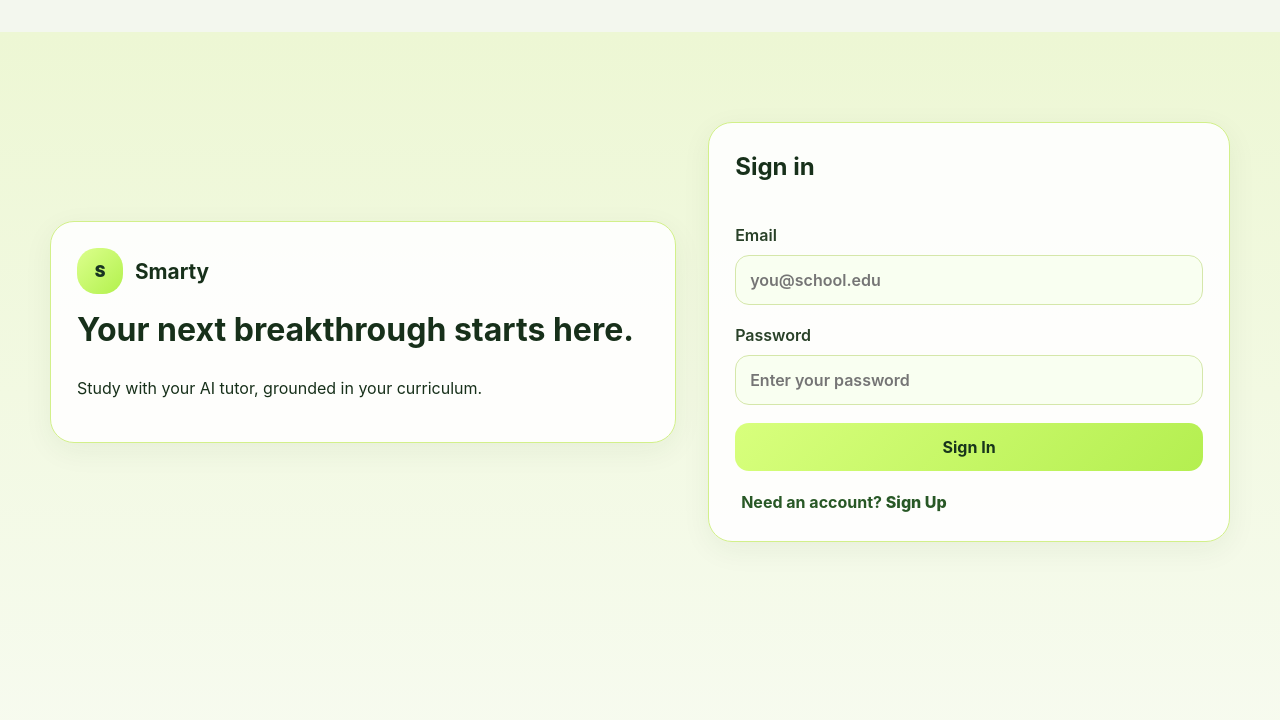
Test: login screen › restores the submit button after a network failure
In the field labelled "Email": (969, 280) top-left (735, 255), bottom-right (1203, 305), type "ada@example.com"
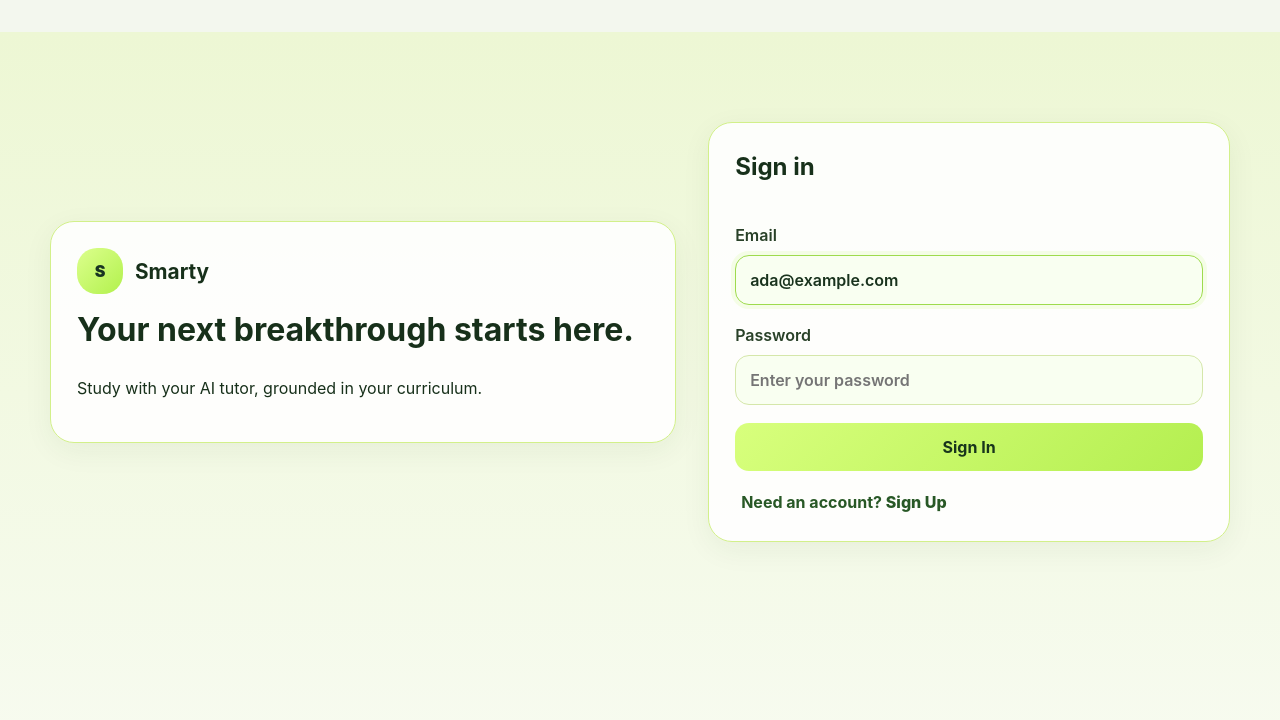
In the password field labelled "Password": (969, 380) top-left (735, 355), bottom-right (1203, 405), type "correct-horse"
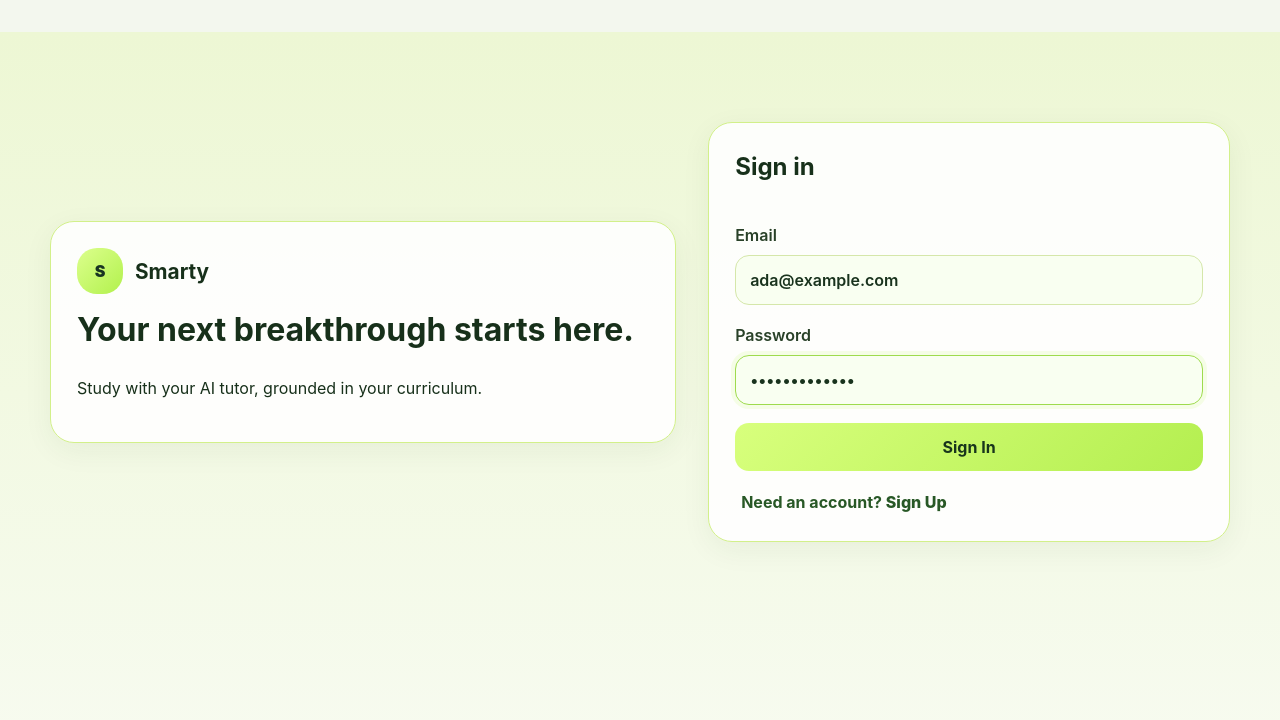
Click the button "Sign In": (969, 447) top-left (735, 423), bottom-right (1203, 471)
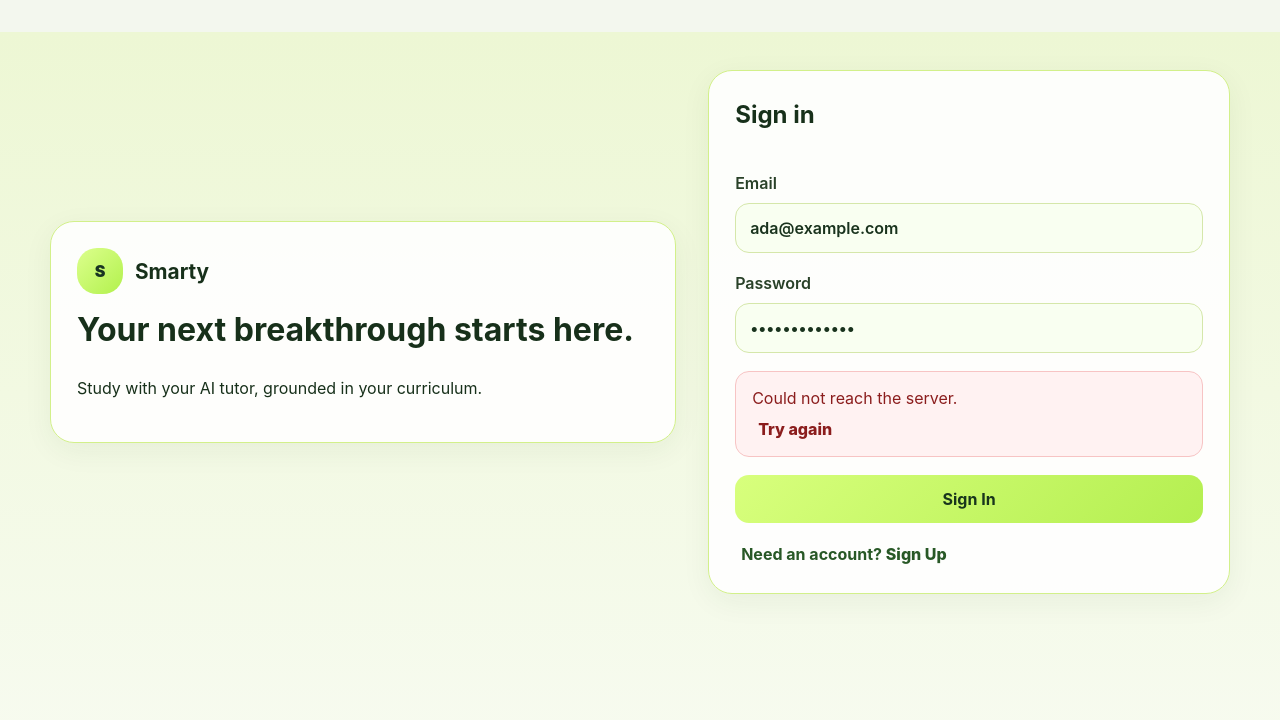
Expected: the button "Sign In" is enabled, top-left (735, 475), bottom-right (1203, 523)
Now the text "Could not reach the server." is shown, box top-left (752, 388), bottom-right (957, 408)
